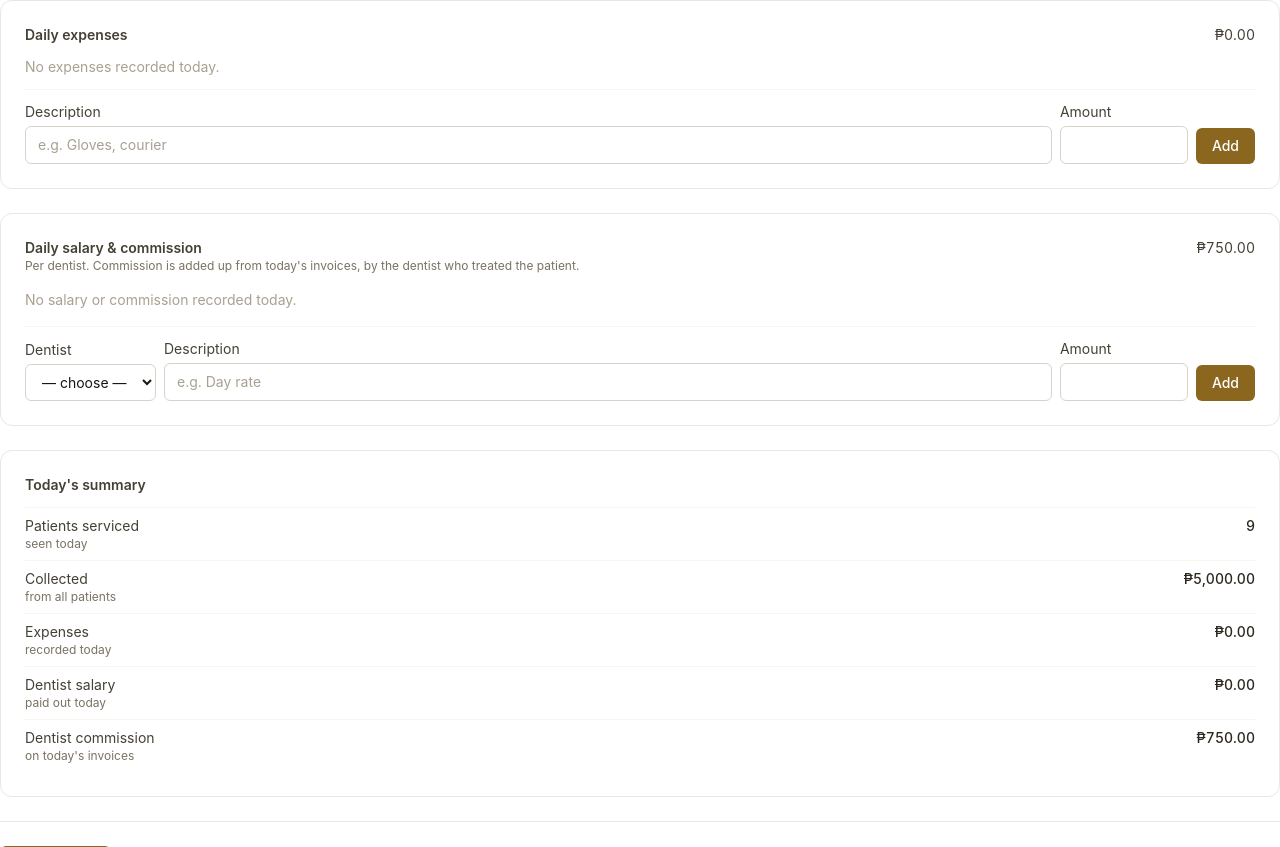
DailyClosePanel › daily salary › will not record salary without a dentist
Type "Day rate" into the field labelled "Description" below "No salary or commission recorded today." at (608, 382), box [164,363,1052,401]
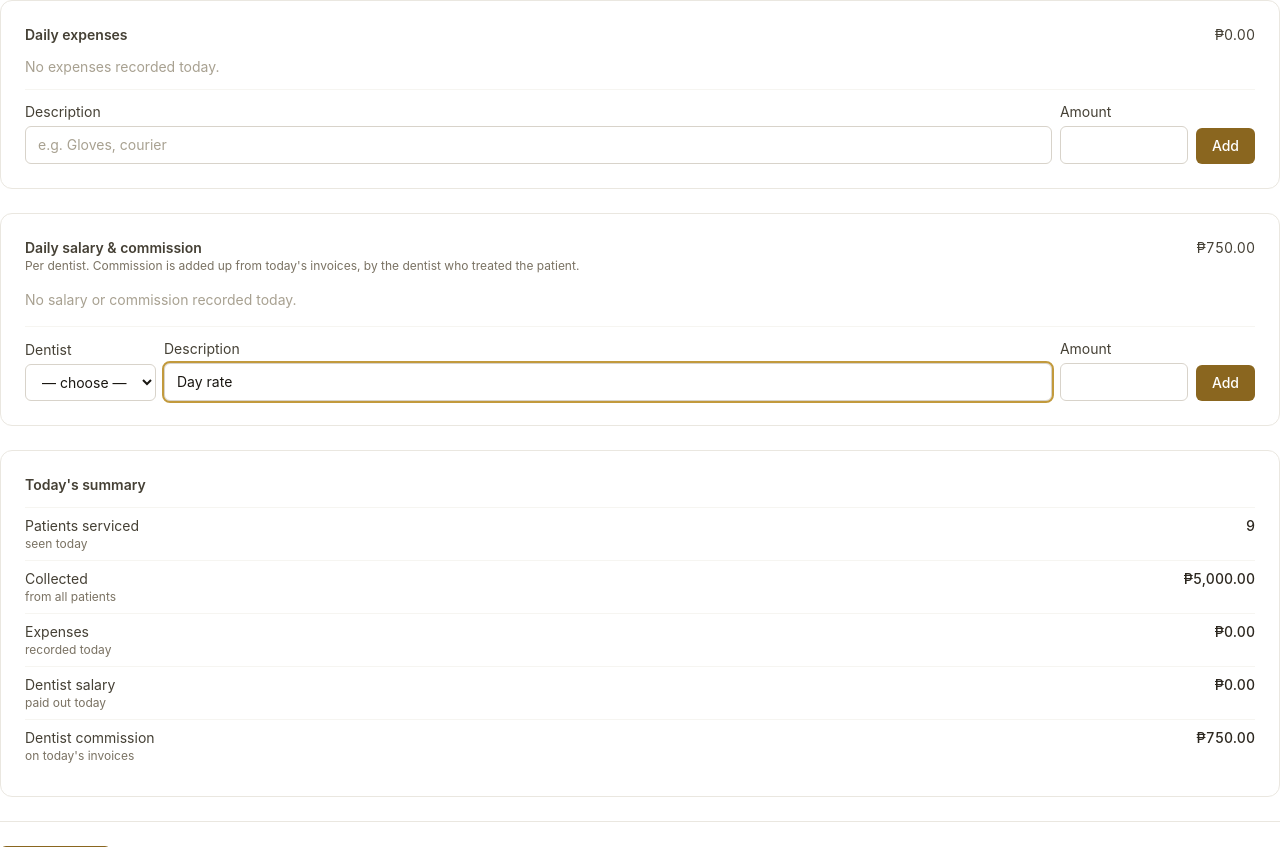
Type "3000" into the 2nd number field labelled "Amount" at (1124, 382), box [1060,363,1188,401]
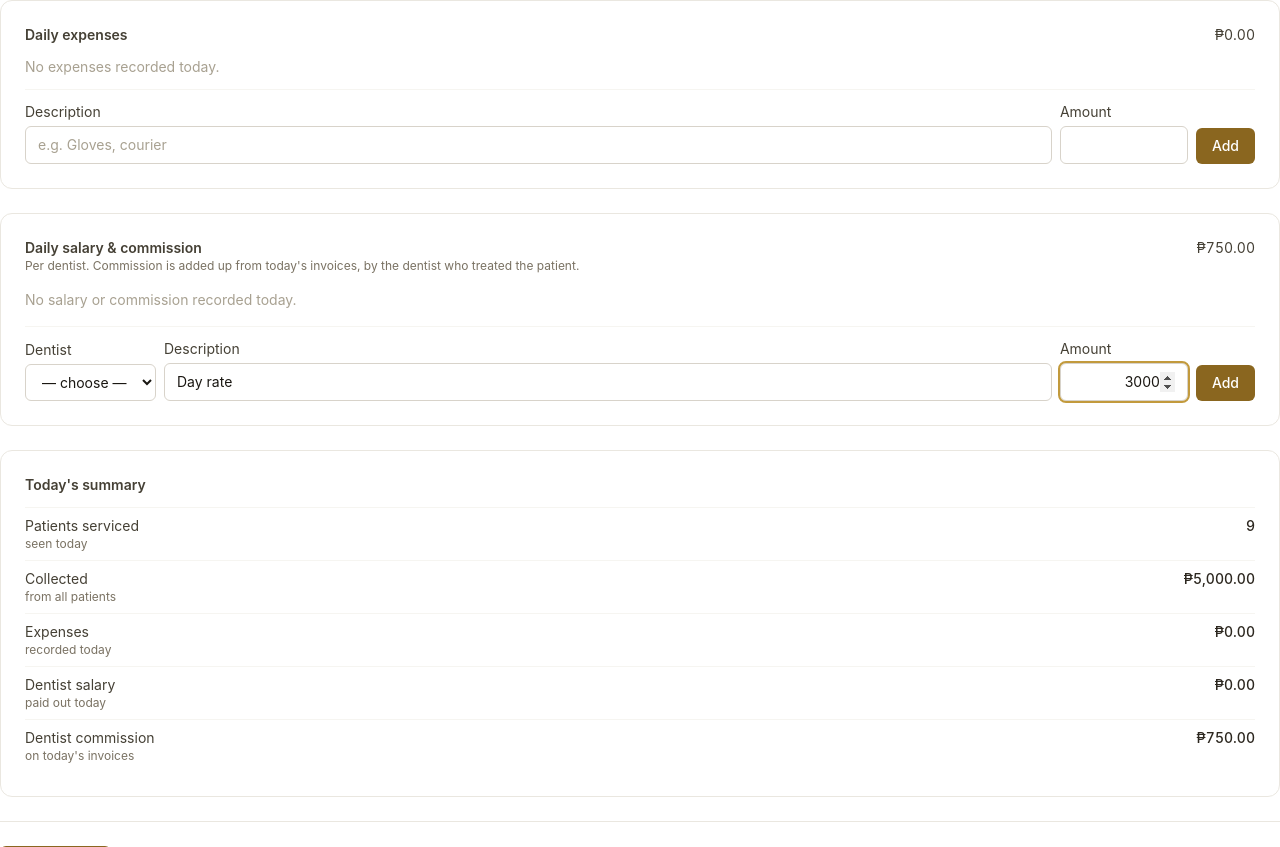
Click the 2nd button "Add" at (1225, 383), box [1196,365,1255,401]
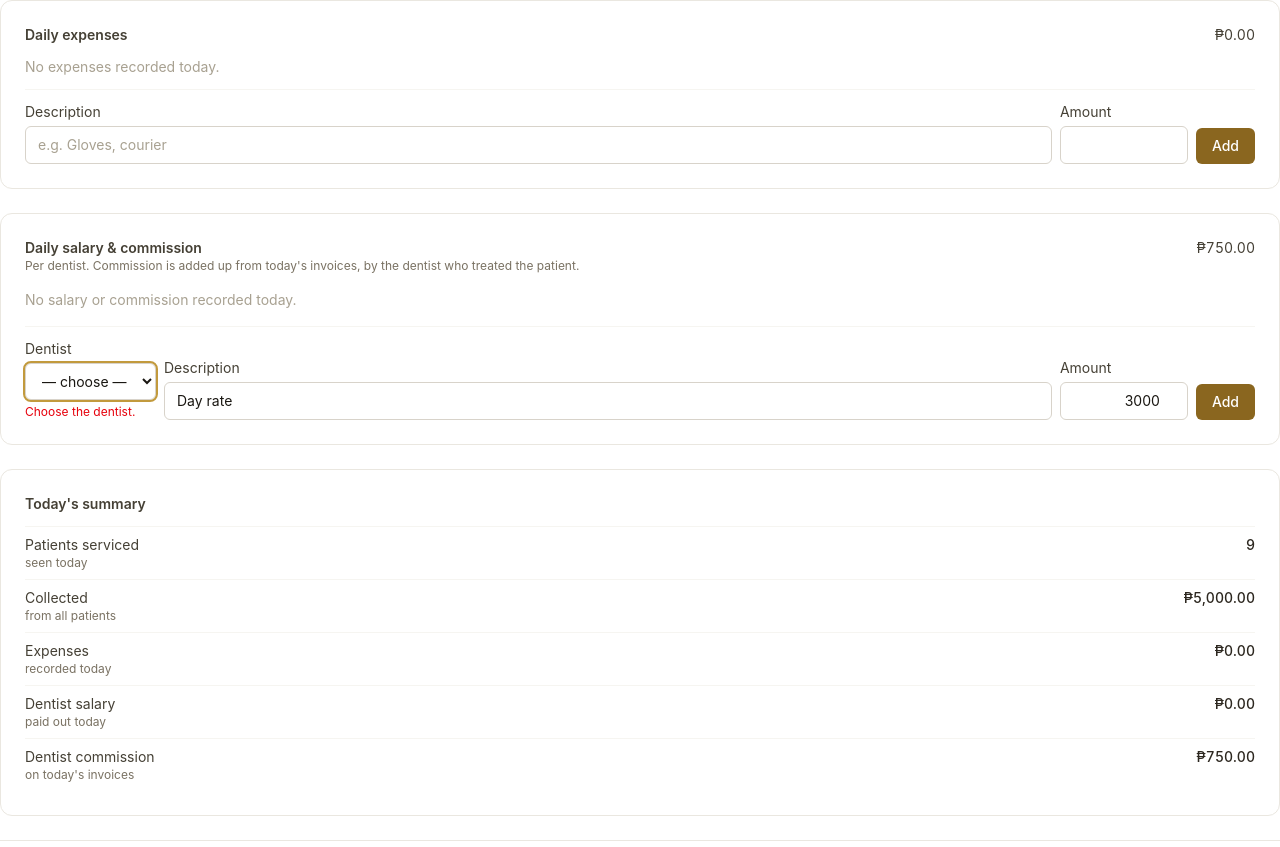
Check: the text "Choose the dentist." is shown, box [25,404,135,419]
